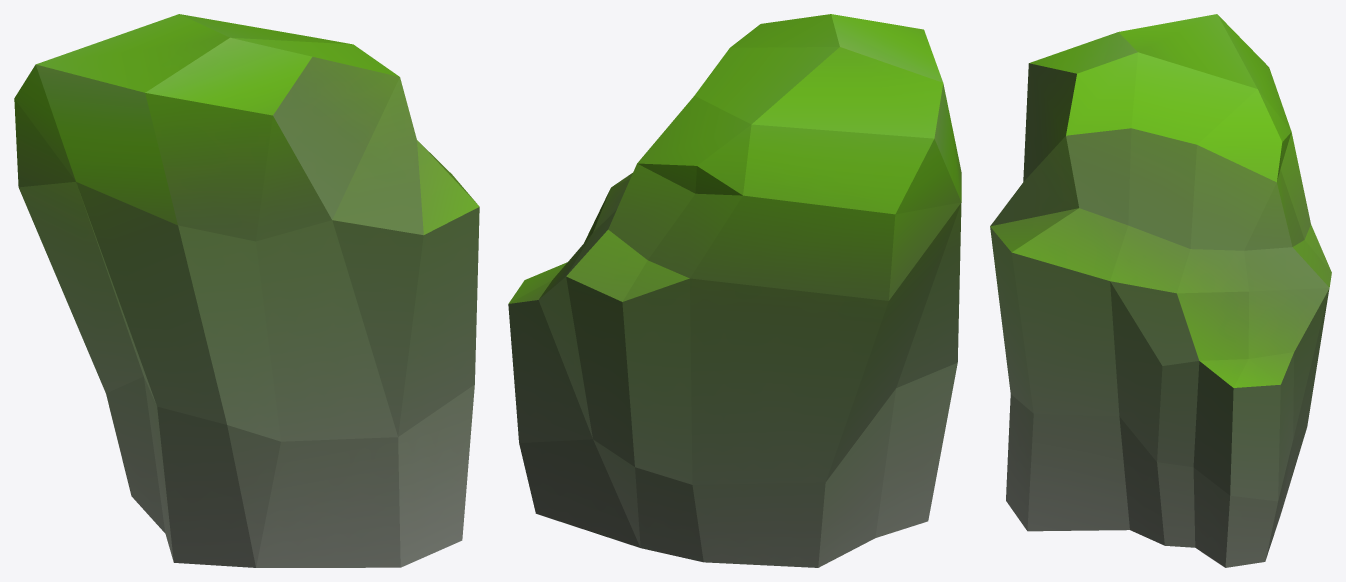
The model's file is RockMoss2.fbx.
The picture shows the model from 3 angles, left to right: view 1: azimuth 30°, elevation 25°; view 2: azimuth 150°, elevation 25°; view 3: azimuth 270°, elevation 25°; orthographic projection. The views are drawn at different scales.
Parts seen in each view (by area): view 1: RockMoss2; view 2: RockMoss2; view 3: RockMoss2.
Boxes of the visible parts, x1,y1,x2,y2 form: RockMoss2: [14, 14, 479, 567]; RockMoss2: [508, 14, 961, 567]; RockMoss2: [990, 14, 1331, 567].
Bounding box in the file's own units: 63.57 × 71.42 × 53.75.
